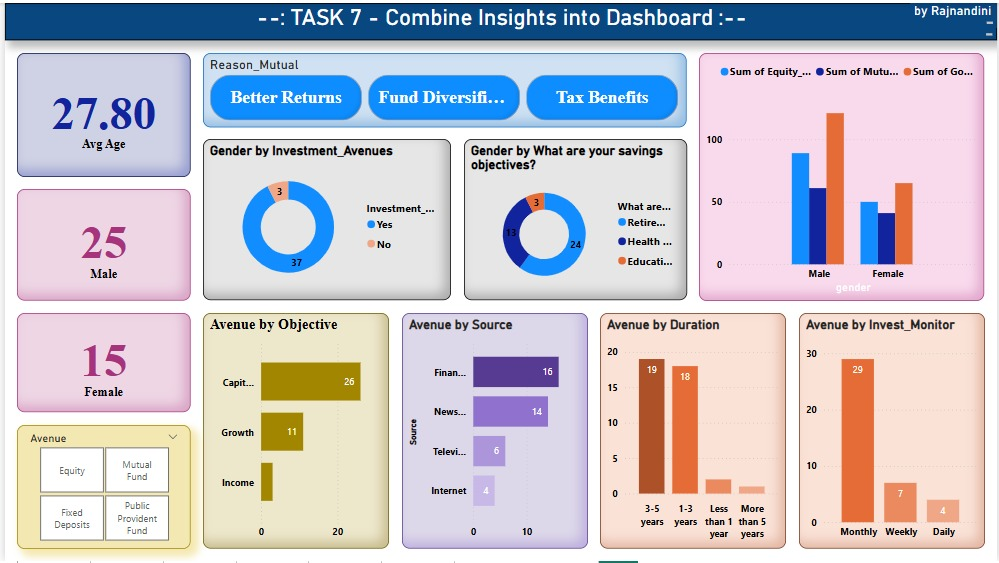

This screenshot's page, from the dashboard's own definition file:
{"tool":"powerbi","page":{"name":"Duplicate of Task 5","canvas":[1280,720],"ordinal":6},"visuals":[{"type":"textbox","title":"--: TASK 7 - Combine Insights into Dashboard :--","box":[0,0,1280,48],"z":0},{"type":"advancedSlicerVisual","fields":{"Values":["Data_set 2.Reason_Mutual"]},"box":[256,64,624,96],"z":1000},{"type":"textbox","title":"by Rajnandini","box":[1168,0,112,32],"z":2000},{"type":"clusteredColumnChart","title":"Sum of Investment","fields":{"Category":["Data_set 2.gender"],"Y":["Sum(Data_set 2.Equity_Market)","Sum(Data_set 2.Mutual_Funds)","Sum(Data_set 2.Government_Bonds)"]},"box":[896,64,368,320],"z":3000},{"type":"clusteredColumnChart","title":"Avenue by Duration","fields":{"Category":["Data_set 2.Duration"],"Y":["CountNonNull(Data_set 2.Avenue)"]},"box":[768,400,240,304],"z":4000},{"type":"clusteredColumnChart","title":"Avenue by Invest_Monitor","fields":{"Category":["Data_set 2.Invest_Monitor"],"Y":["CountNonNull(Data_set 2.Avenue)"]},"box":[1024,400,240,304],"z":5000},{"type":"clusteredBarChart","title":"Avenue by Source","fields":{"Category":["Data_set 2.Source"],"Y":["CountNonNull(Data_set 2.Avenue)"]},"box":[512,400,240,304],"z":6000},{"type":"clusteredBarChart","title":"Avenue by Objective","fields":{"Category":["Data_set 2.Objective"],"Y":["CountNonNull(Data_set 2.Avenue)"]},"box":[256,400,240,304],"z":7000},{"type":"card","fields":{"Values":["Data_set 2.Male"]},"box":[16,240,224,144],"z":8000},{"type":"card","fields":{"Values":["Data_set 2.Female"]},"box":[16,400,224,128],"z":9000},{"type":"slicer","fields":{"Values":["Data_set 2.Avenue"]},"box":[16,544,224,160],"z":10000},{"type":"card","fields":{"Values":["Avg(Data_set 2.age)"]},"box":[16,64,224,160],"z":11000},{"type":"donutChart","title":"Gender by Investment_Avenues","fields":{"Y":["CountNonNull(Data_set 2.gender)"],"Category":["Data_set 2.Investment_Avenues"]},"box":[256,176,320,208],"z":12000},{"type":"donutChart","title":"Gender by What are your savings objectives?","fields":{"Category":["Data_set 2.What are your savings objectives?"],"Y":["CountNonNull(Data_set 2.gender)"]},"box":[592,176,288,208],"z":13000}]}

Visuals, with their boxes in screenshot pixels (x1, y1, x2, y2), scaled from the page's 1280x720 canvas onto the 999x563 screenshot:
"--: TASK 7 - Combine Insights into Dashboard :--" textbox: rect(0, 0, 998, 38)
advancedSlicerVisual - Data_set 2.Reason_Mutual: rect(200, 50, 687, 125)
"by Rajnandini" textbox: rect(912, 0, 998, 25)
"Sum of Investment" clusteredColumnChart: rect(699, 50, 987, 300)
"Avenue by Duration" clusteredColumnChart: rect(599, 313, 787, 550)
"Avenue by Invest_Monitor" clusteredColumnChart: rect(799, 313, 987, 550)
"Avenue by Source" clusteredBarChart: rect(400, 313, 587, 550)
"Avenue by Objective" clusteredBarChart: rect(200, 313, 387, 550)
card - Data_set 2.Male: rect(12, 188, 187, 300)
card - Data_set 2.Female: rect(12, 313, 187, 413)
slicer - Data_set 2.Avenue: rect(12, 425, 187, 550)
card - Avg(Data_set 2.age): rect(12, 50, 187, 175)
"Gender by Investment_Avenues" donutChart: rect(200, 138, 450, 300)
"Gender by What are your savings objectives?" donutChart: rect(462, 138, 687, 300)
